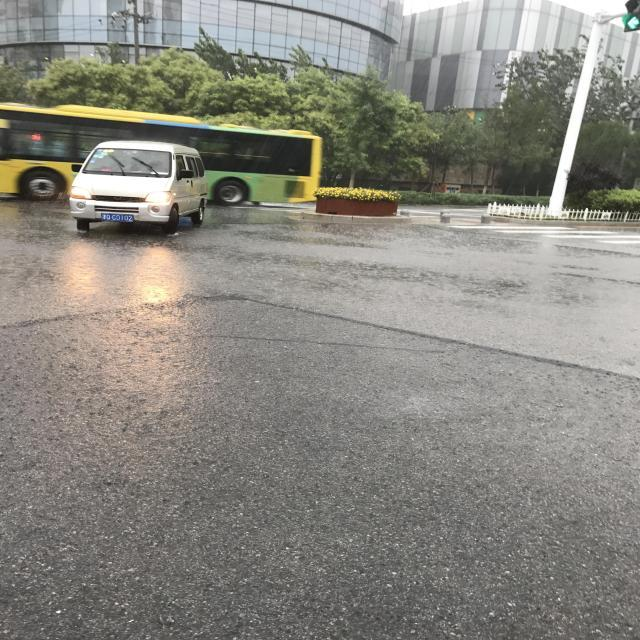car: (137, 430, 236, 578)
